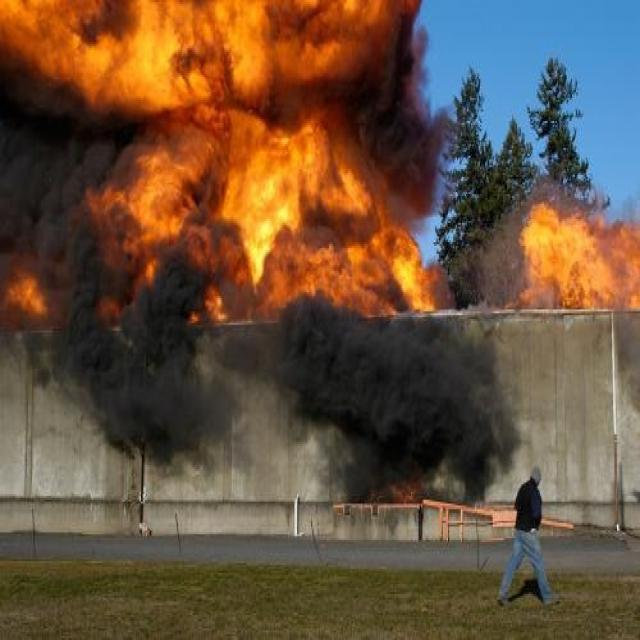Fire: (2, 2, 440, 323), (518, 200, 640, 314)
Smoke: (1, 54, 520, 514)
